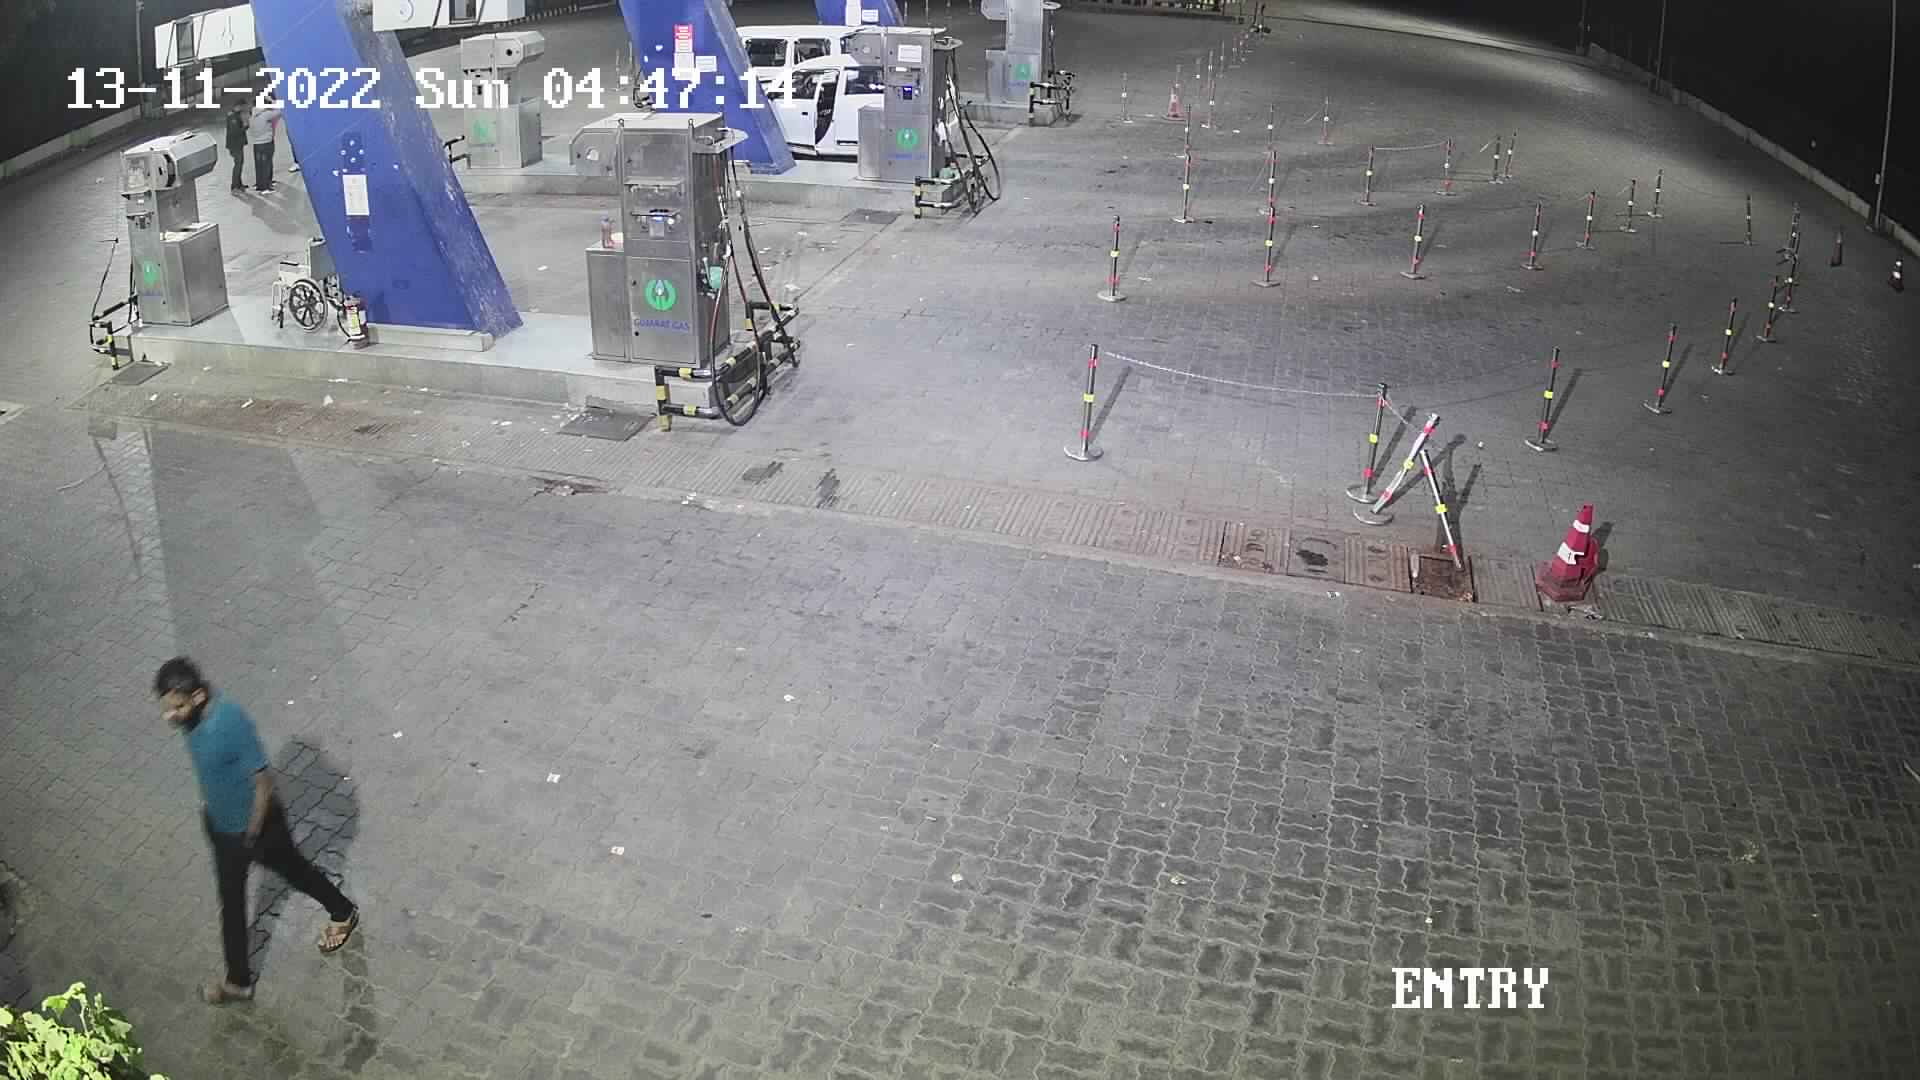Car: (750, 46, 880, 166), (713, 18, 862, 113)
